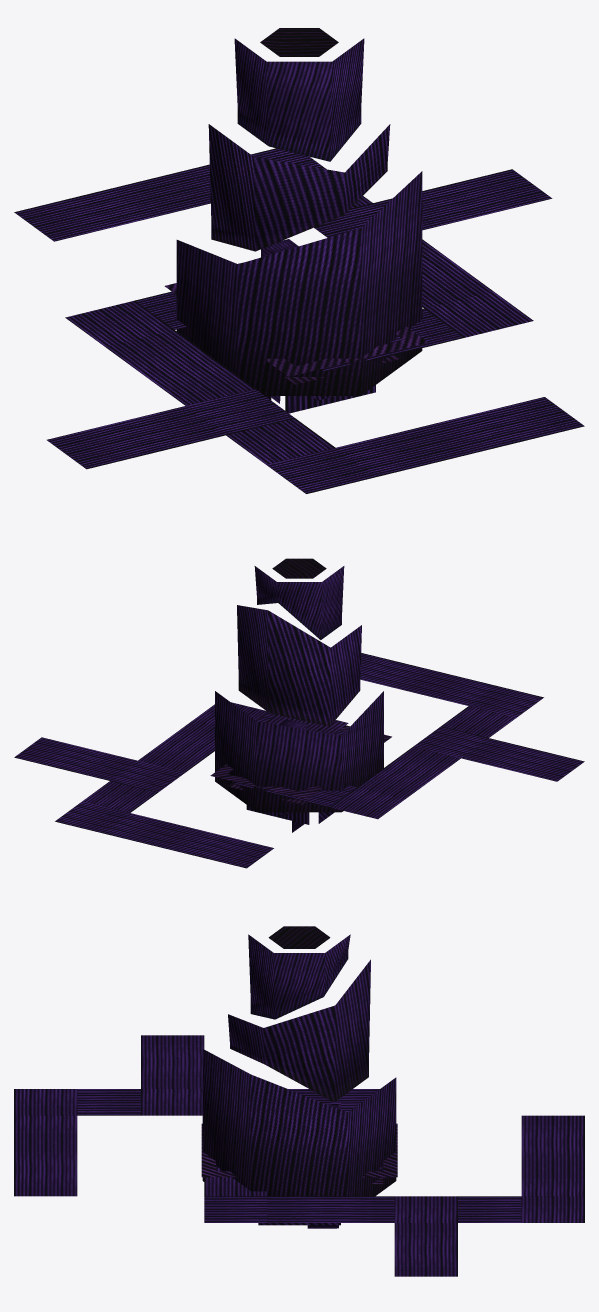
Rendered from mapParts.glb.
3 renders of one model, top to bottom at view 1: azimuth 30°, elevation 25°; view 2: azimuth 150°, elevation 25°; view 3: azimuth 270°, elevation 25°, orthographic. The views are drawn at different scales.
Parts seen in each view (by area): view 1: center00, seesaw00, block02, block00; view 2: seesaw00, center00, block00, block02; view 3: center00, seesaw00, block02.
Part boxes in pixels (x1,y1,x2,y2): center00: (176, 28, 422, 395); seesaw00: (14, 148, 584, 493); block02: (164, 283, 428, 384); block00: (238, 262, 375, 413); seesaw00: (14, 653, 584, 868); center00: (215, 558, 383, 812); block00: (246, 714, 348, 824); block02: (210, 725, 391, 804); center00: (202, 926, 396, 1196); seesaw00: (14, 1035, 584, 1276); block02: (201, 1123, 397, 1185).
Size of what is drawn, in the model's own units: 18 by 10.06 by 18.
3 materials, 3 textured.
